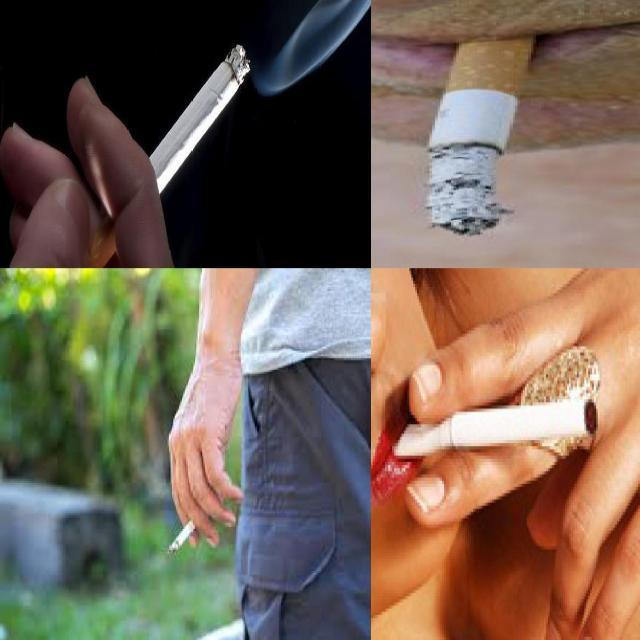smoke: (59, 42, 252, 267), (426, 15, 547, 236), (388, 401, 598, 459), (168, 516, 201, 555)
